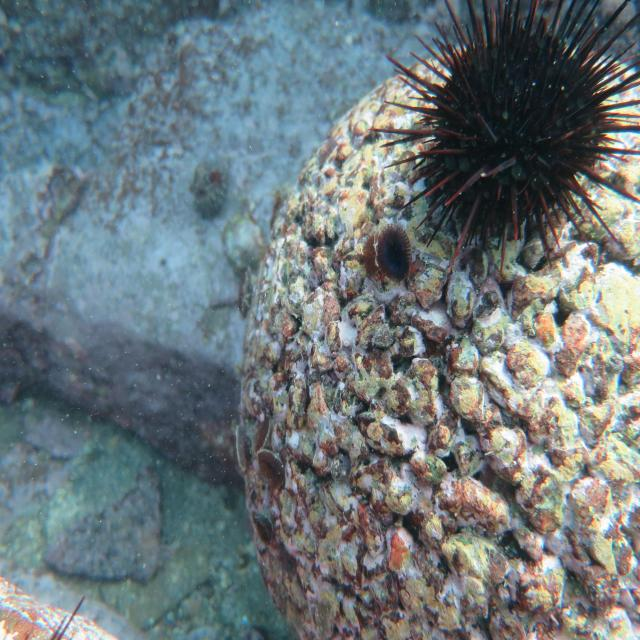Urchin: (376, 8, 630, 259)
